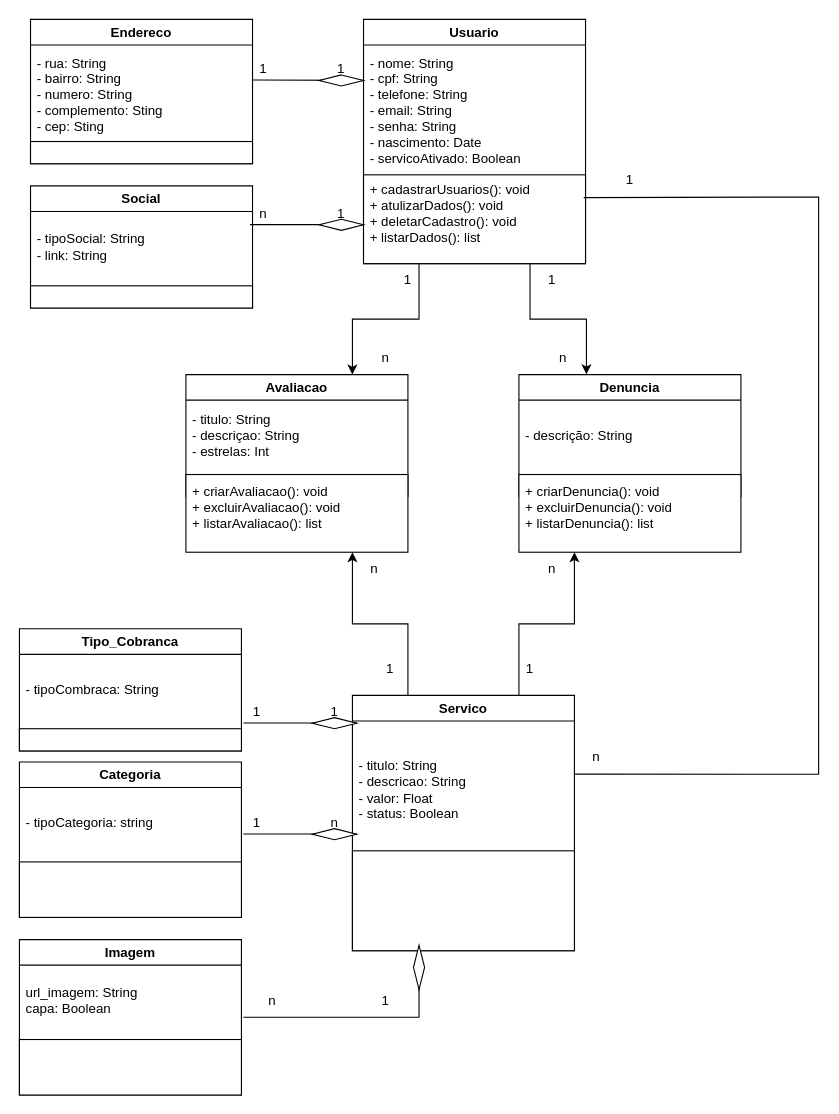
Some shapes in this 839 by 1114 pixel diagram are drawn without their labels. The shapes that lost their labels are listed below. From the top down, each one's centre as x and y in pixels, then its label:
point (129, 889): + cadastrarCategoria(): void
point (462, 900): + cadastrarServico(): void + atualizarServico(): void + deletarServico(): void
point (129, 1066): + cadastrarFotoServico()
